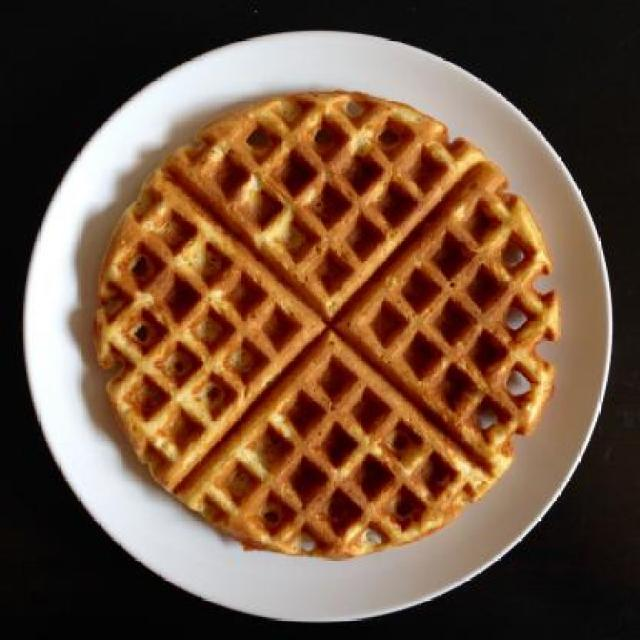Waffle: (93, 89, 562, 560)
